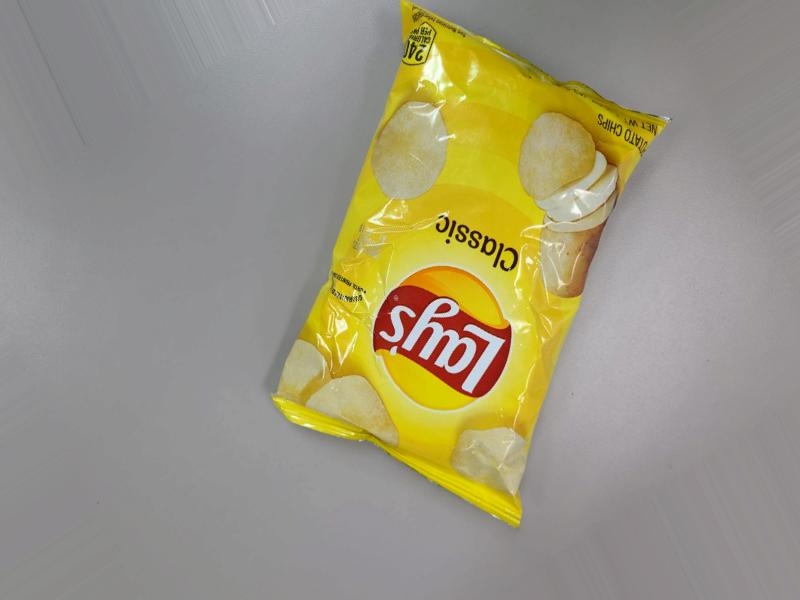lays: (301, 6, 691, 449)
